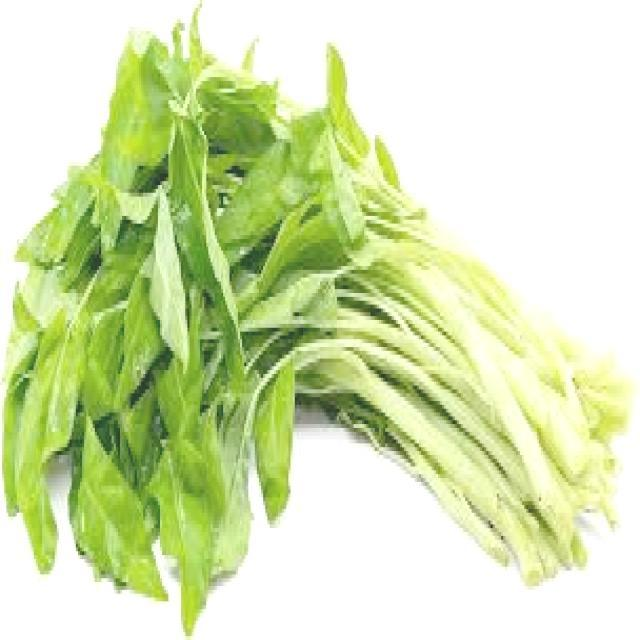Spinach: (25, 53, 640, 531)
